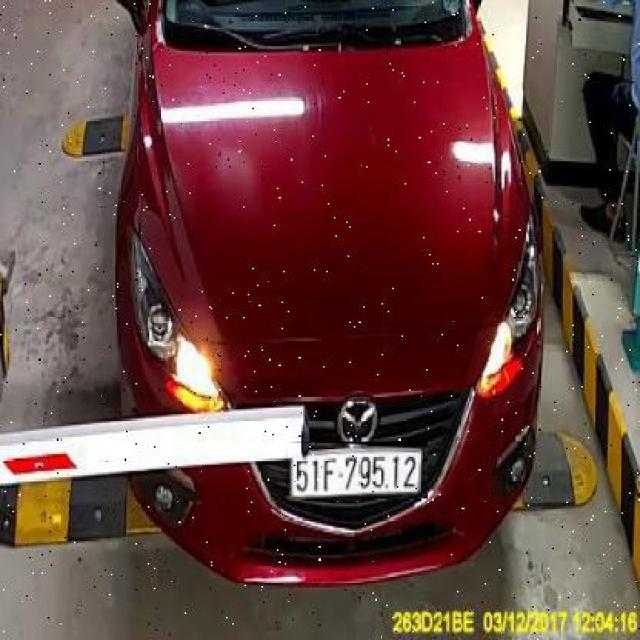number_plate: (286, 442, 428, 498)
